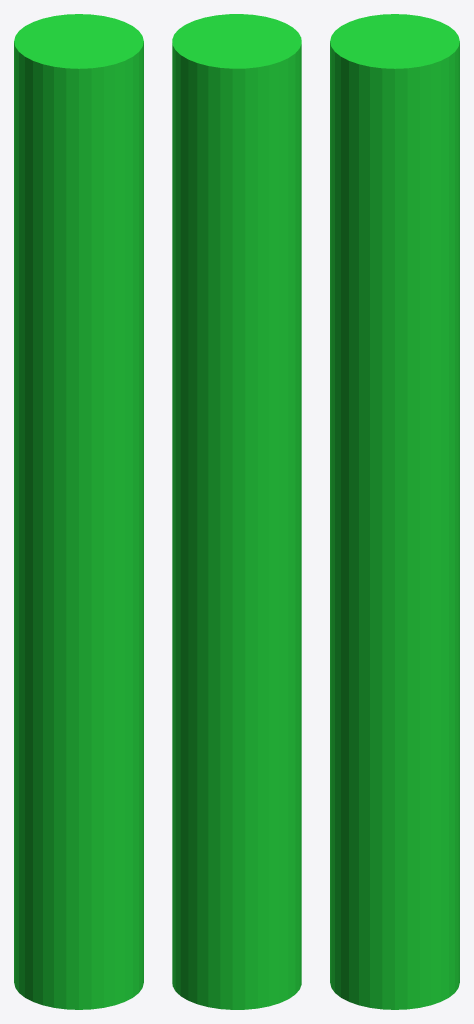
Rendered from F2InteractablePlatform2VinesVertical.fbx.
The picture shows the model from 3 angles, left to right: view 1: azimuth 90°, elevation 25°; view 2: azimuth 210°, elevation 25°; view 3: azimuth 270°, elevation 25°; orthographic projection.
Visible parts, largest first — view 1: Vines.001; view 2: Vines.001; view 3: Vines.001.
Boxes of the visible parts, <box> form: Vines.001: <box>14,14,143,1009</box>; Vines.001: <box>172,14,301,1009</box>; Vines.001: <box>330,14,459,1009</box>.
Size of the model in its own units: 5 by 40 by 5.
